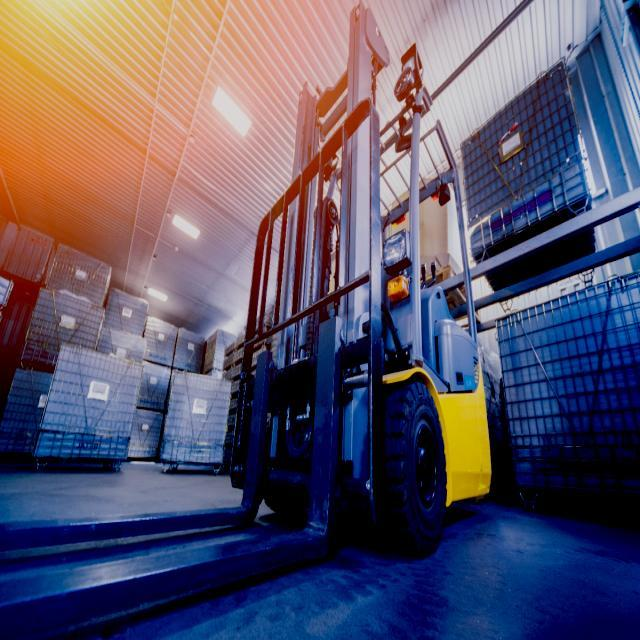forklift: (224, 16, 506, 564)
